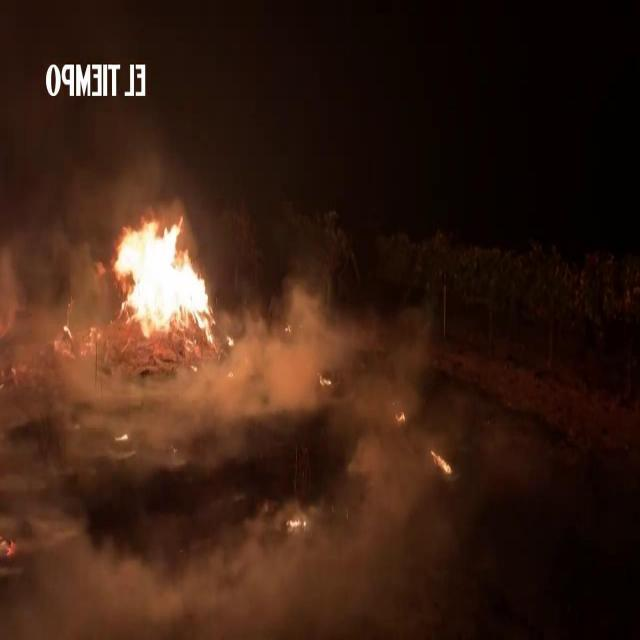Fire: (114, 202, 227, 342), (431, 449, 455, 475), (318, 372, 334, 387), (285, 514, 303, 526), (396, 407, 406, 423), (228, 331, 236, 349)
